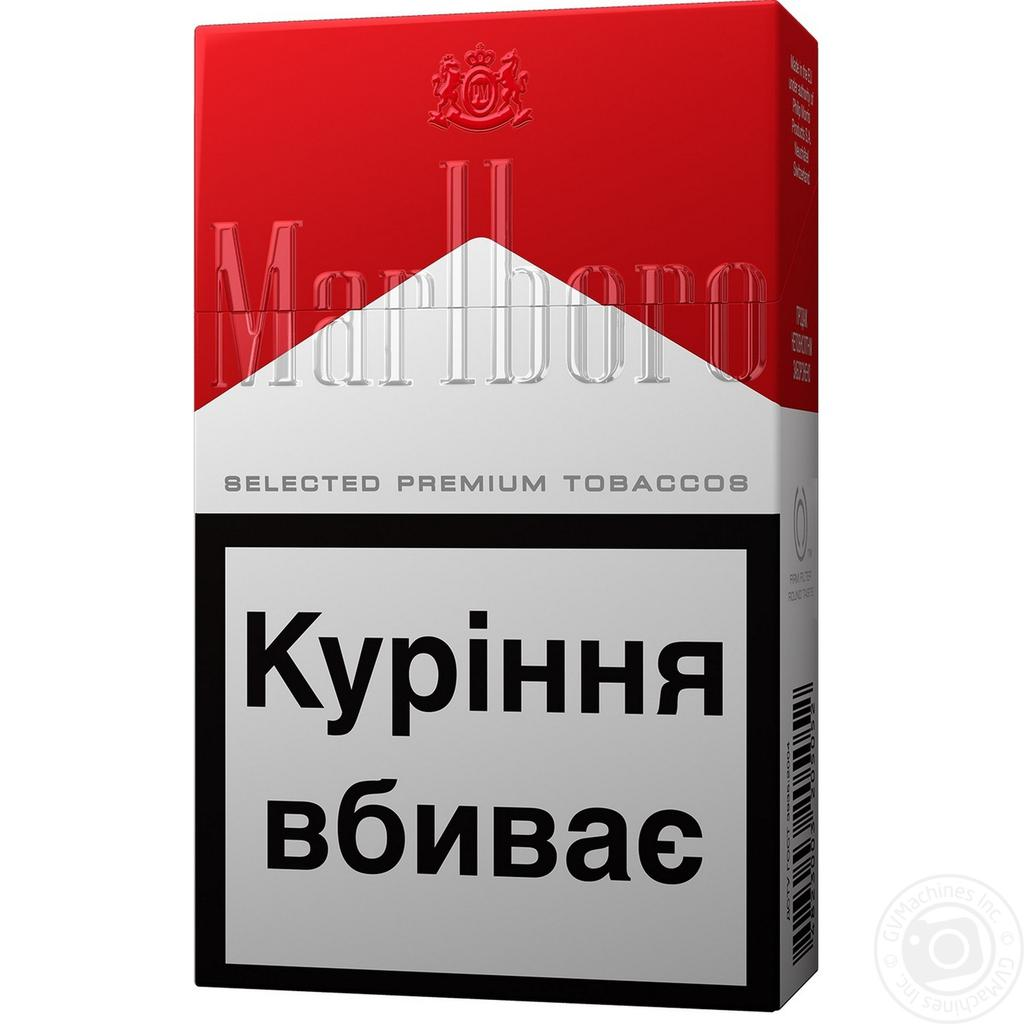marlboro_red: (193, 45, 776, 985)
